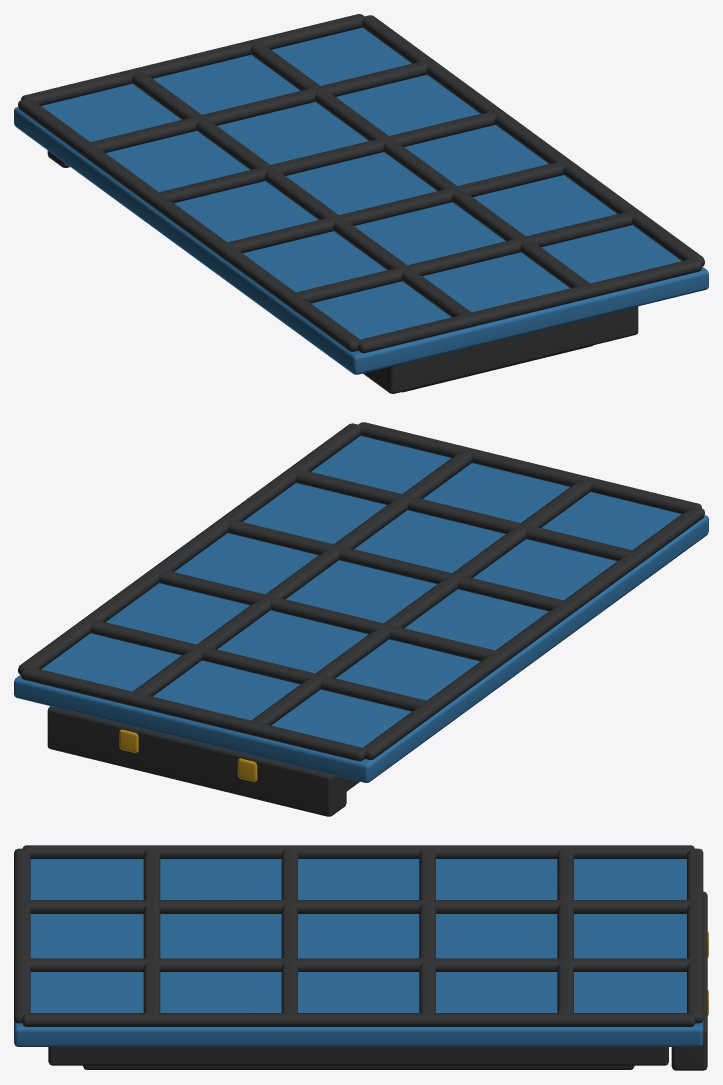
The model's file is frame-3x5.glb.
3 views of the same model, one above another, from view 1: azimuth 30°, elevation 25°; view 2: azimuth 150°, elevation 25°; view 3: azimuth 270°, elevation 25° (orthographic).
Visible parts, largest first — view 1: rig-body; view 2: rig-body; view 3: rig-body.
Part boxes in pixels (bbox=[...]): rig-body: bbox=[14, 14, 708, 393]; rig-body: bbox=[14, 422, 708, 816]; rig-body: bbox=[14, 845, 708, 1070].
Bounding box in the file's own units: 3 × 0.74 × 5.04.
